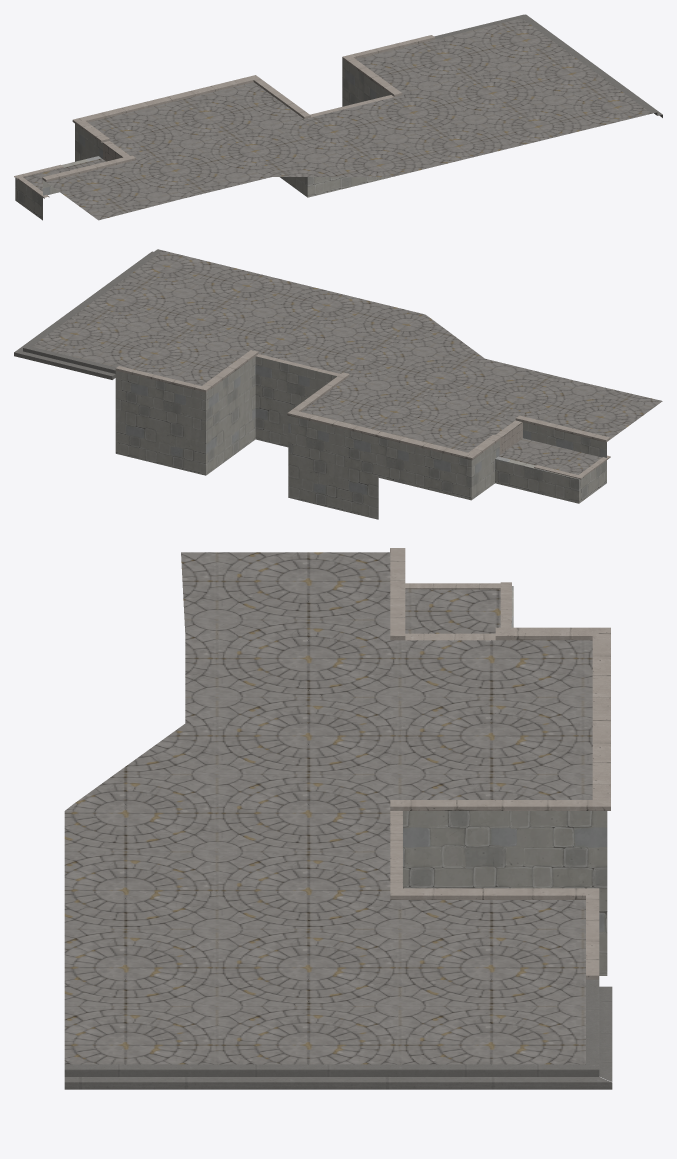
The model's file is TownGroundTile_D.fbx.
3 views of the same model, one above another, from view 1: azimuth 30°, elevation 25°; view 2: azimuth 150°, elevation 25°; view 3: azimuth 270°, elevation 25° (orthographic). The views are drawn at different scales.
Visible parts, largest first — view 1: TownGroundTile_D; view 2: TownGroundTile_D; view 3: TownGroundTile_D.
Boxes of the visible parts, bbox=[...] form: TownGroundTile_D: bbox=[14, 14, 662, 220]; TownGroundTile_D: bbox=[14, 249, 662, 519]; TownGroundTile_D: bbox=[64, 548, 612, 1089].
Bounding box in the file's own units: 7795 × 1174 × 3439.
4 materials, 4 textured.
